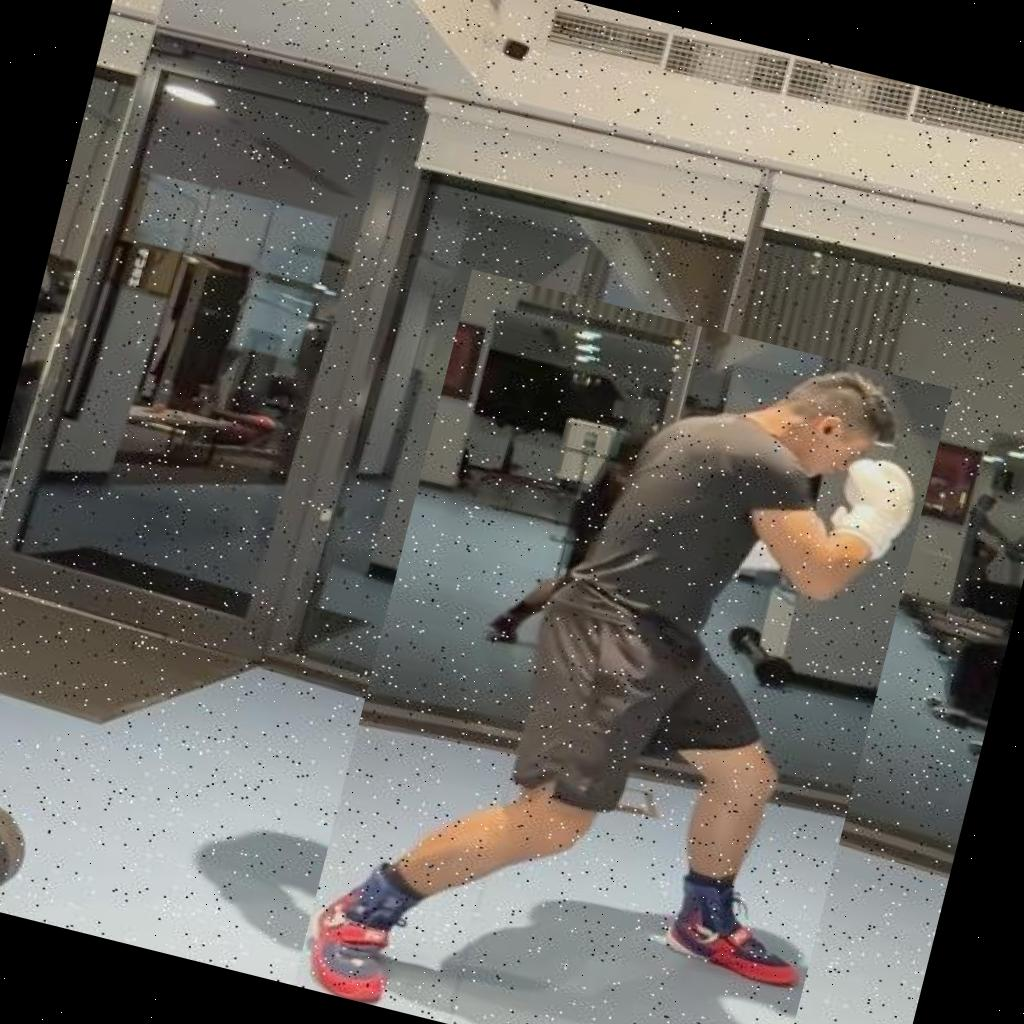no punch: (293, 269, 952, 1024)
